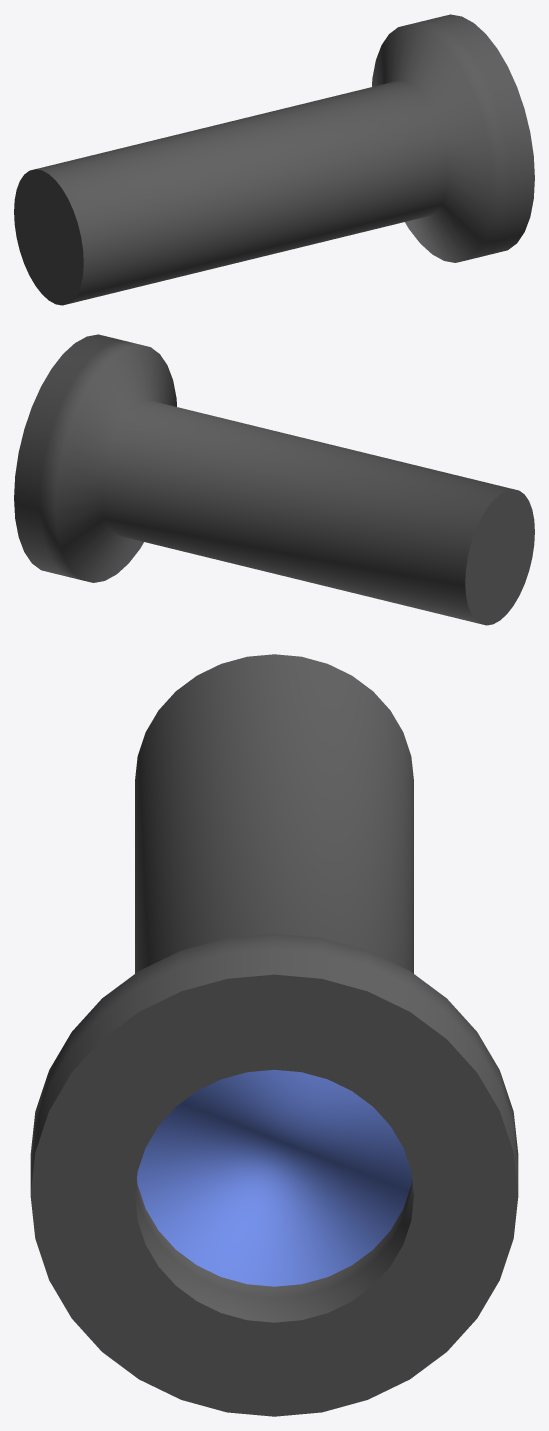
The model's file is BasicFllashlight.fbx.
3 views of the same model, one above another, from view 1: azimuth 30°, elevation 25°; view 2: azimuth 150°, elevation 25°; view 3: azimuth 270°, elevation 25° (orthographic). The views are drawn at different scales.
Parts seen in each view (by area): view 1: Cylinder; view 2: Cylinder; view 3: Cylinder.
Part boxes in pixels (bbox=[...]): Cylinder: bbox=[14, 14, 534, 305]; Cylinder: bbox=[14, 334, 534, 625]; Cylinder: bbox=[30, 654, 518, 1416].
Bounding box in the file's own units: 705 × 350 × 350.
